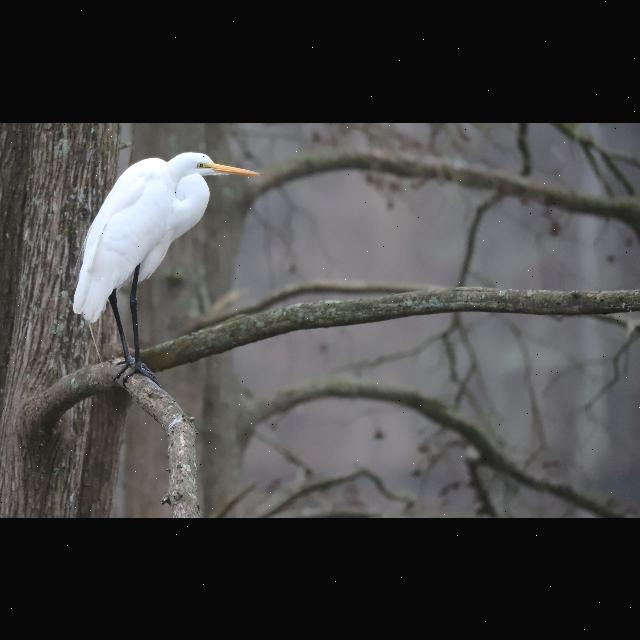egret: (60, 144, 266, 396)
